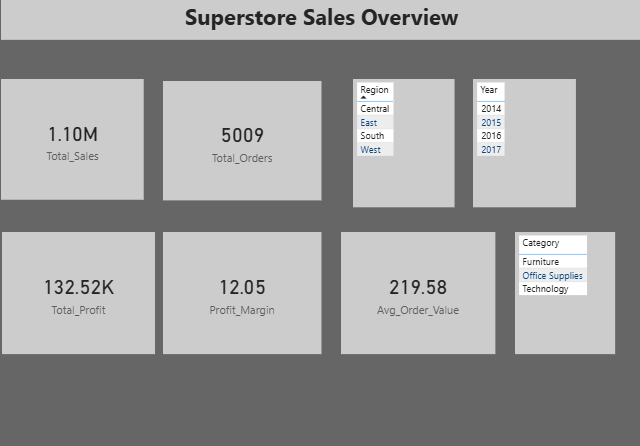

Layout of this report page (visuals, bound fields, positions):
{"tool":"powerbi","page":{"name":"Overview","canvas":[960,720],"ordinal":0},"visuals":[{"type":"card","fields":{"Values":["Sample - Superstore.Total_Profit"]},"box":[15.5,360.7,223,178.4],"z":1},{"type":"card","fields":{"Values":["Sample - Superstore.Total_Orders"]},"box":[250.1,139.3,230.6,173.7],"z":2},{"type":"tableEx","fields":{"Values":["Sample - Superstore.Region"]},"box":[527.2,136.3,148.3,187.2],"z":4},{"type":"textbox","box":[15,19.5,934.5,61.4],"z":8},{"type":"card","fields":{"Values":["Sample - Superstore.Total_Sales"]},"box":[14.6,137,208.4,176.4],"z":9},{"type":"card","fields":{"Values":["Sample - Superstore.Profit_Margin"]},"box":[250.1,359.4,230.6,178.2],"z":10},{"type":"card","fields":{"Values":["Sample - Superstore.Avg_Order_Value"]},"box":[510.7,359.4,224.6,178.2],"z":11},{"type":"tableEx","fields":{"Values":["Sample - Superstore.Order Date.Variation.Date Hierarchy.Year"]},"box":[702.4,136.3,149.8,187.2],"z":12},{"type":"tableEx","fields":{"Values":["Sample - Superstore.Category"]},"box":[763.7,360,145.7,177.8],"z":13}]}

Visuals, with their boxes on the page's 960x720 design canvas (x1, y1, x2, y2). These are canvas units, not pixel positions in the 640x446 screenshot, which may show the page scaled, cropped or inside an application window:
card - Sample - Superstore.Total_Profit: locate(16, 361, 238, 539)
card - Sample - Superstore.Total_Orders: locate(250, 139, 481, 313)
tableEx - Sample - Superstore.Region: locate(527, 136, 676, 324)
textbox: locate(15, 20, 950, 81)
card - Sample - Superstore.Total_Sales: locate(15, 137, 223, 313)
card - Sample - Superstore.Profit_Margin: locate(250, 359, 481, 538)
card - Sample - Superstore.Avg_Order_Value: locate(511, 359, 735, 538)
tableEx - Sample - Superstore.Order Date.Variation.Date Hierarchy.Year: locate(702, 136, 852, 324)
tableEx - Sample - Superstore.Category: locate(764, 360, 909, 538)
